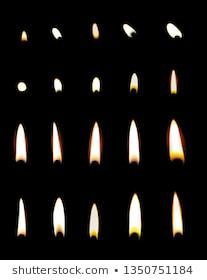fire: (165, 116, 184, 163), (125, 190, 142, 239), (168, 191, 184, 237), (51, 194, 66, 237), (127, 116, 140, 164), (89, 119, 102, 165), (13, 121, 27, 163), (50, 120, 63, 162), (15, 195, 28, 237), (86, 201, 100, 238), (167, 68, 178, 94), (128, 71, 139, 94)
